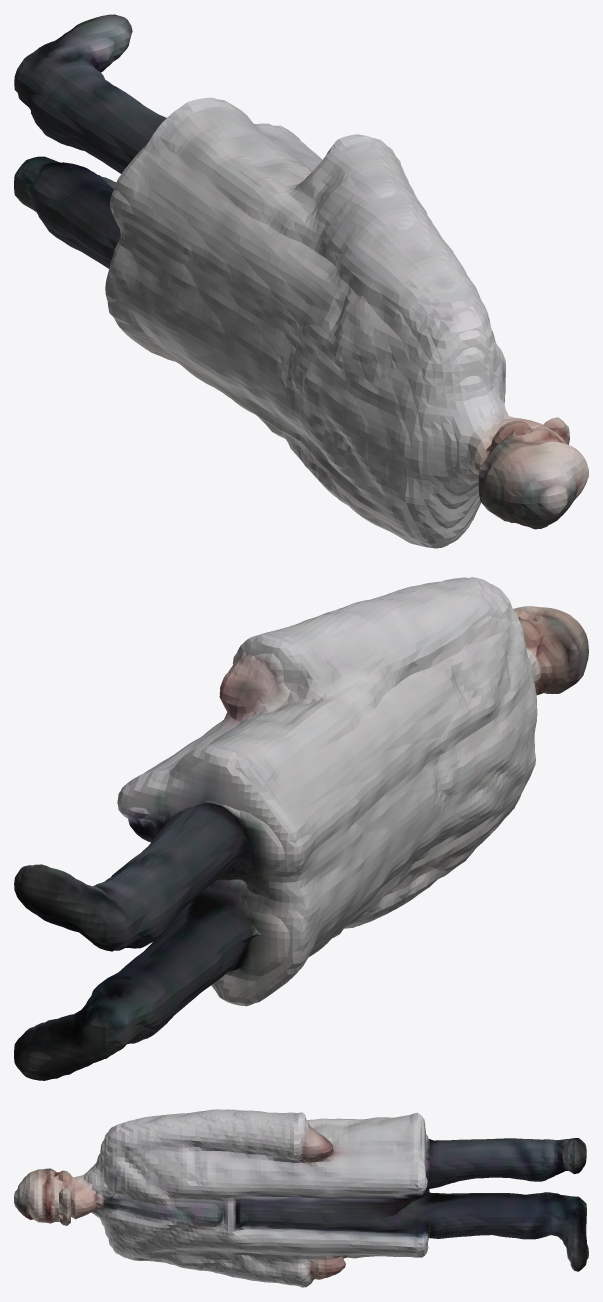
The picture shows the model from 3 angles, top to bottom: view 1: azimuth 30°, elevation 25°; view 2: azimuth 150°, elevation 25°; view 3: azimuth 270°, elevation 25°; orthographic projection. The views are drawn at different scales.
Visible parts, largest first — view 1: geometry_0; view 2: geometry_0; view 3: geometry_0.
Part boxes in pixels (x1,y1,x2,y2): geometry_0: (14, 14, 588, 548); geometry_0: (14, 577, 588, 1080); geometry_0: (14, 1109, 588, 1287).
Bounding box in the file's own units: 0.2114 × 0.3183 × 0.9511.
